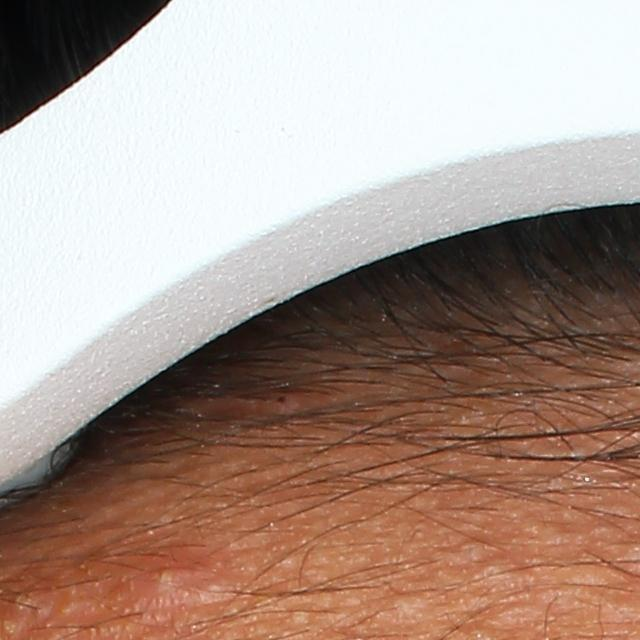comedo: (372, 590, 431, 624), (476, 555, 523, 588)
